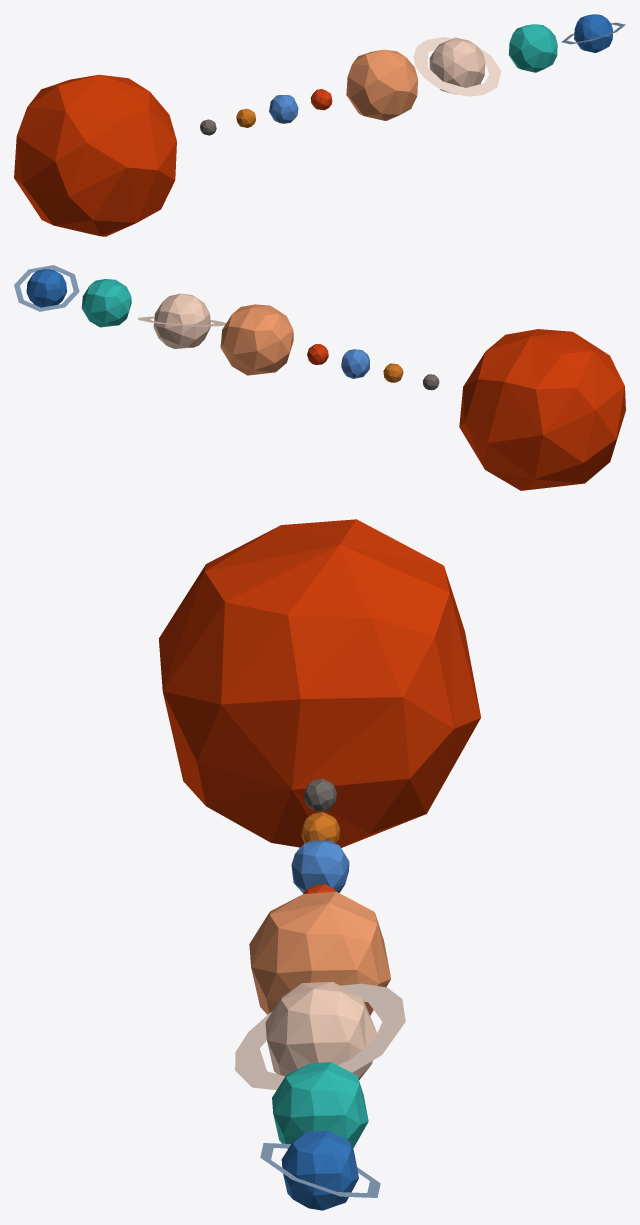
The model's file is uploads_files_2306195_planets.fbx.
The picture shows the model from 3 angles, top to bottom: view 1: azimuth 30°, elevation 25°; view 2: azimuth 150°, elevation 25°; view 3: azimuth 270°, elevation 25°; orthographic projection. The views are drawn at different scales.
Visible parts, largest first — view 1: Sun, Jupiter, Saturn, Uranus, Neptune, Earth, Mars; view 2: Sun, Jupiter, Saturn, Neptune, Uranus, Earth, Mars; view 3: Sun, Saturn, Jupiter, Uranus, Neptune, Earth, Venus.
Part boxes in pixels (left/top/right/bottom): Sun: left=14, top=74, right=176, bottom=236; Jupiter: left=346, top=49, right=417, bottom=120; Saturn: left=413, top=37, right=501, bottom=96; Uranus: left=508, top=24, right=557, bottom=72; Neptune: left=561, top=14, right=625, bottom=52; Earth: left=269, top=95, right=298, bottom=123; Mars: left=310, top=89, right=332, bottom=110; Sun: left=459, top=329, right=625, bottom=490; Jupiter: left=220, top=304, right=293, bottom=375; Saturn: left=138, top=293, right=225, bottom=348; Neptune: left=14, top=265, right=79, bottom=311; Uranus: left=81, top=279, right=131, bottom=327; Earth: left=341, top=349, right=369, bottom=378; Mars: left=307, top=344, right=328, bottom=364; Sun: left=159, top=519, right=480, bottom=847; Saturn: left=235, top=981, right=405, bottom=1089; Jupiter: left=249, top=891, right=390, bottom=1015; Uranus: left=272, top=1062, right=368, bottom=1148; Neptune: left=260, top=1130, right=380, bottom=1210; Earth: left=291, top=840, right=349, bottom=892; Venus: left=301, top=812, right=340, bottom=843.
Bounding box in the file's own units: 793 × 187 × 185.
